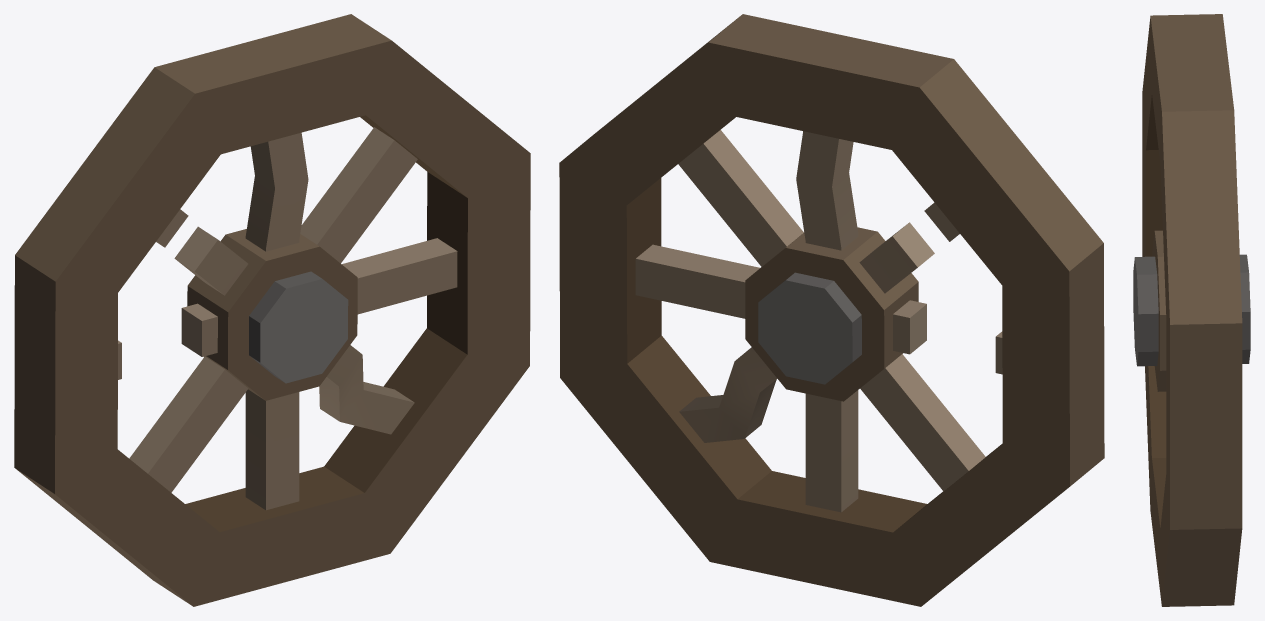
The model's file is SD_Prop_WagonWheel_02.fbx.
3 views of the same model, side by side, from view 1: azimuth 30°, elevation 25°; view 2: azimuth 150°, elevation 25°; view 3: azimuth 270°, elevation 25° (orthographic). The views are drawn at different scales.
Visible parts, largest first — view 1: SD_Prop_WagonWheel_02; view 2: SD_Prop_WagonWheel_02; view 3: SD_Prop_WagonWheel_02.
Part boxes in pixels (x1,y1,x2,y2): SD_Prop_WagonWheel_02: (14, 14, 530, 606); SD_Prop_WagonWheel_02: (559, 14, 1104, 606); SD_Prop_WagonWheel_02: (1133, 14, 1250, 606).
Bounding box in the file's own units: 2.14 × 2.13 × 0.4563.
